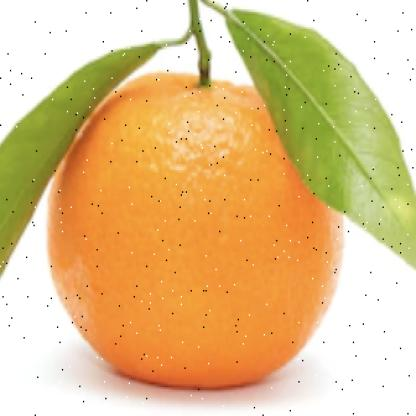fresh: (46, 52, 348, 392)
